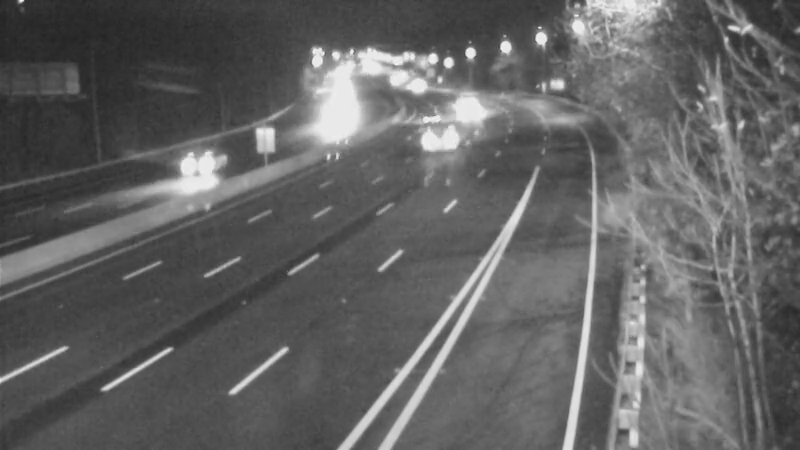vehicle: (143, 127, 223, 207), (436, 74, 486, 124), (446, 90, 496, 140), (408, 92, 458, 142), (420, 109, 470, 159)
